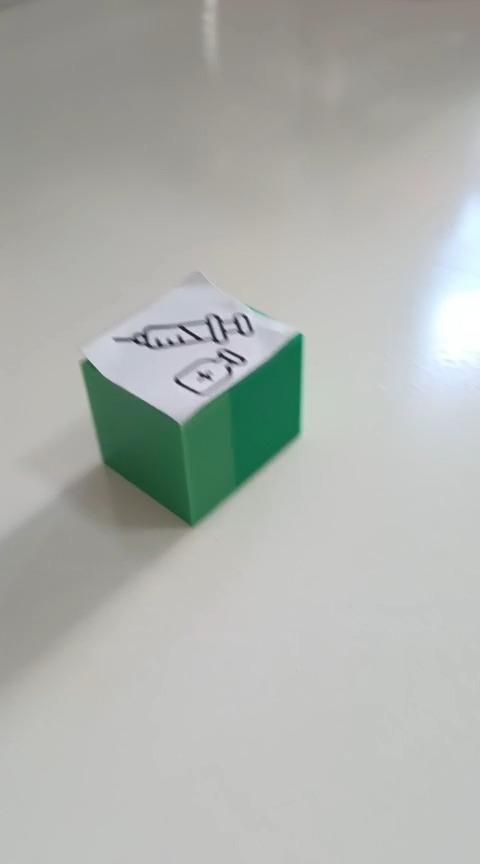antiseptic cream: (77, 268, 305, 527)
